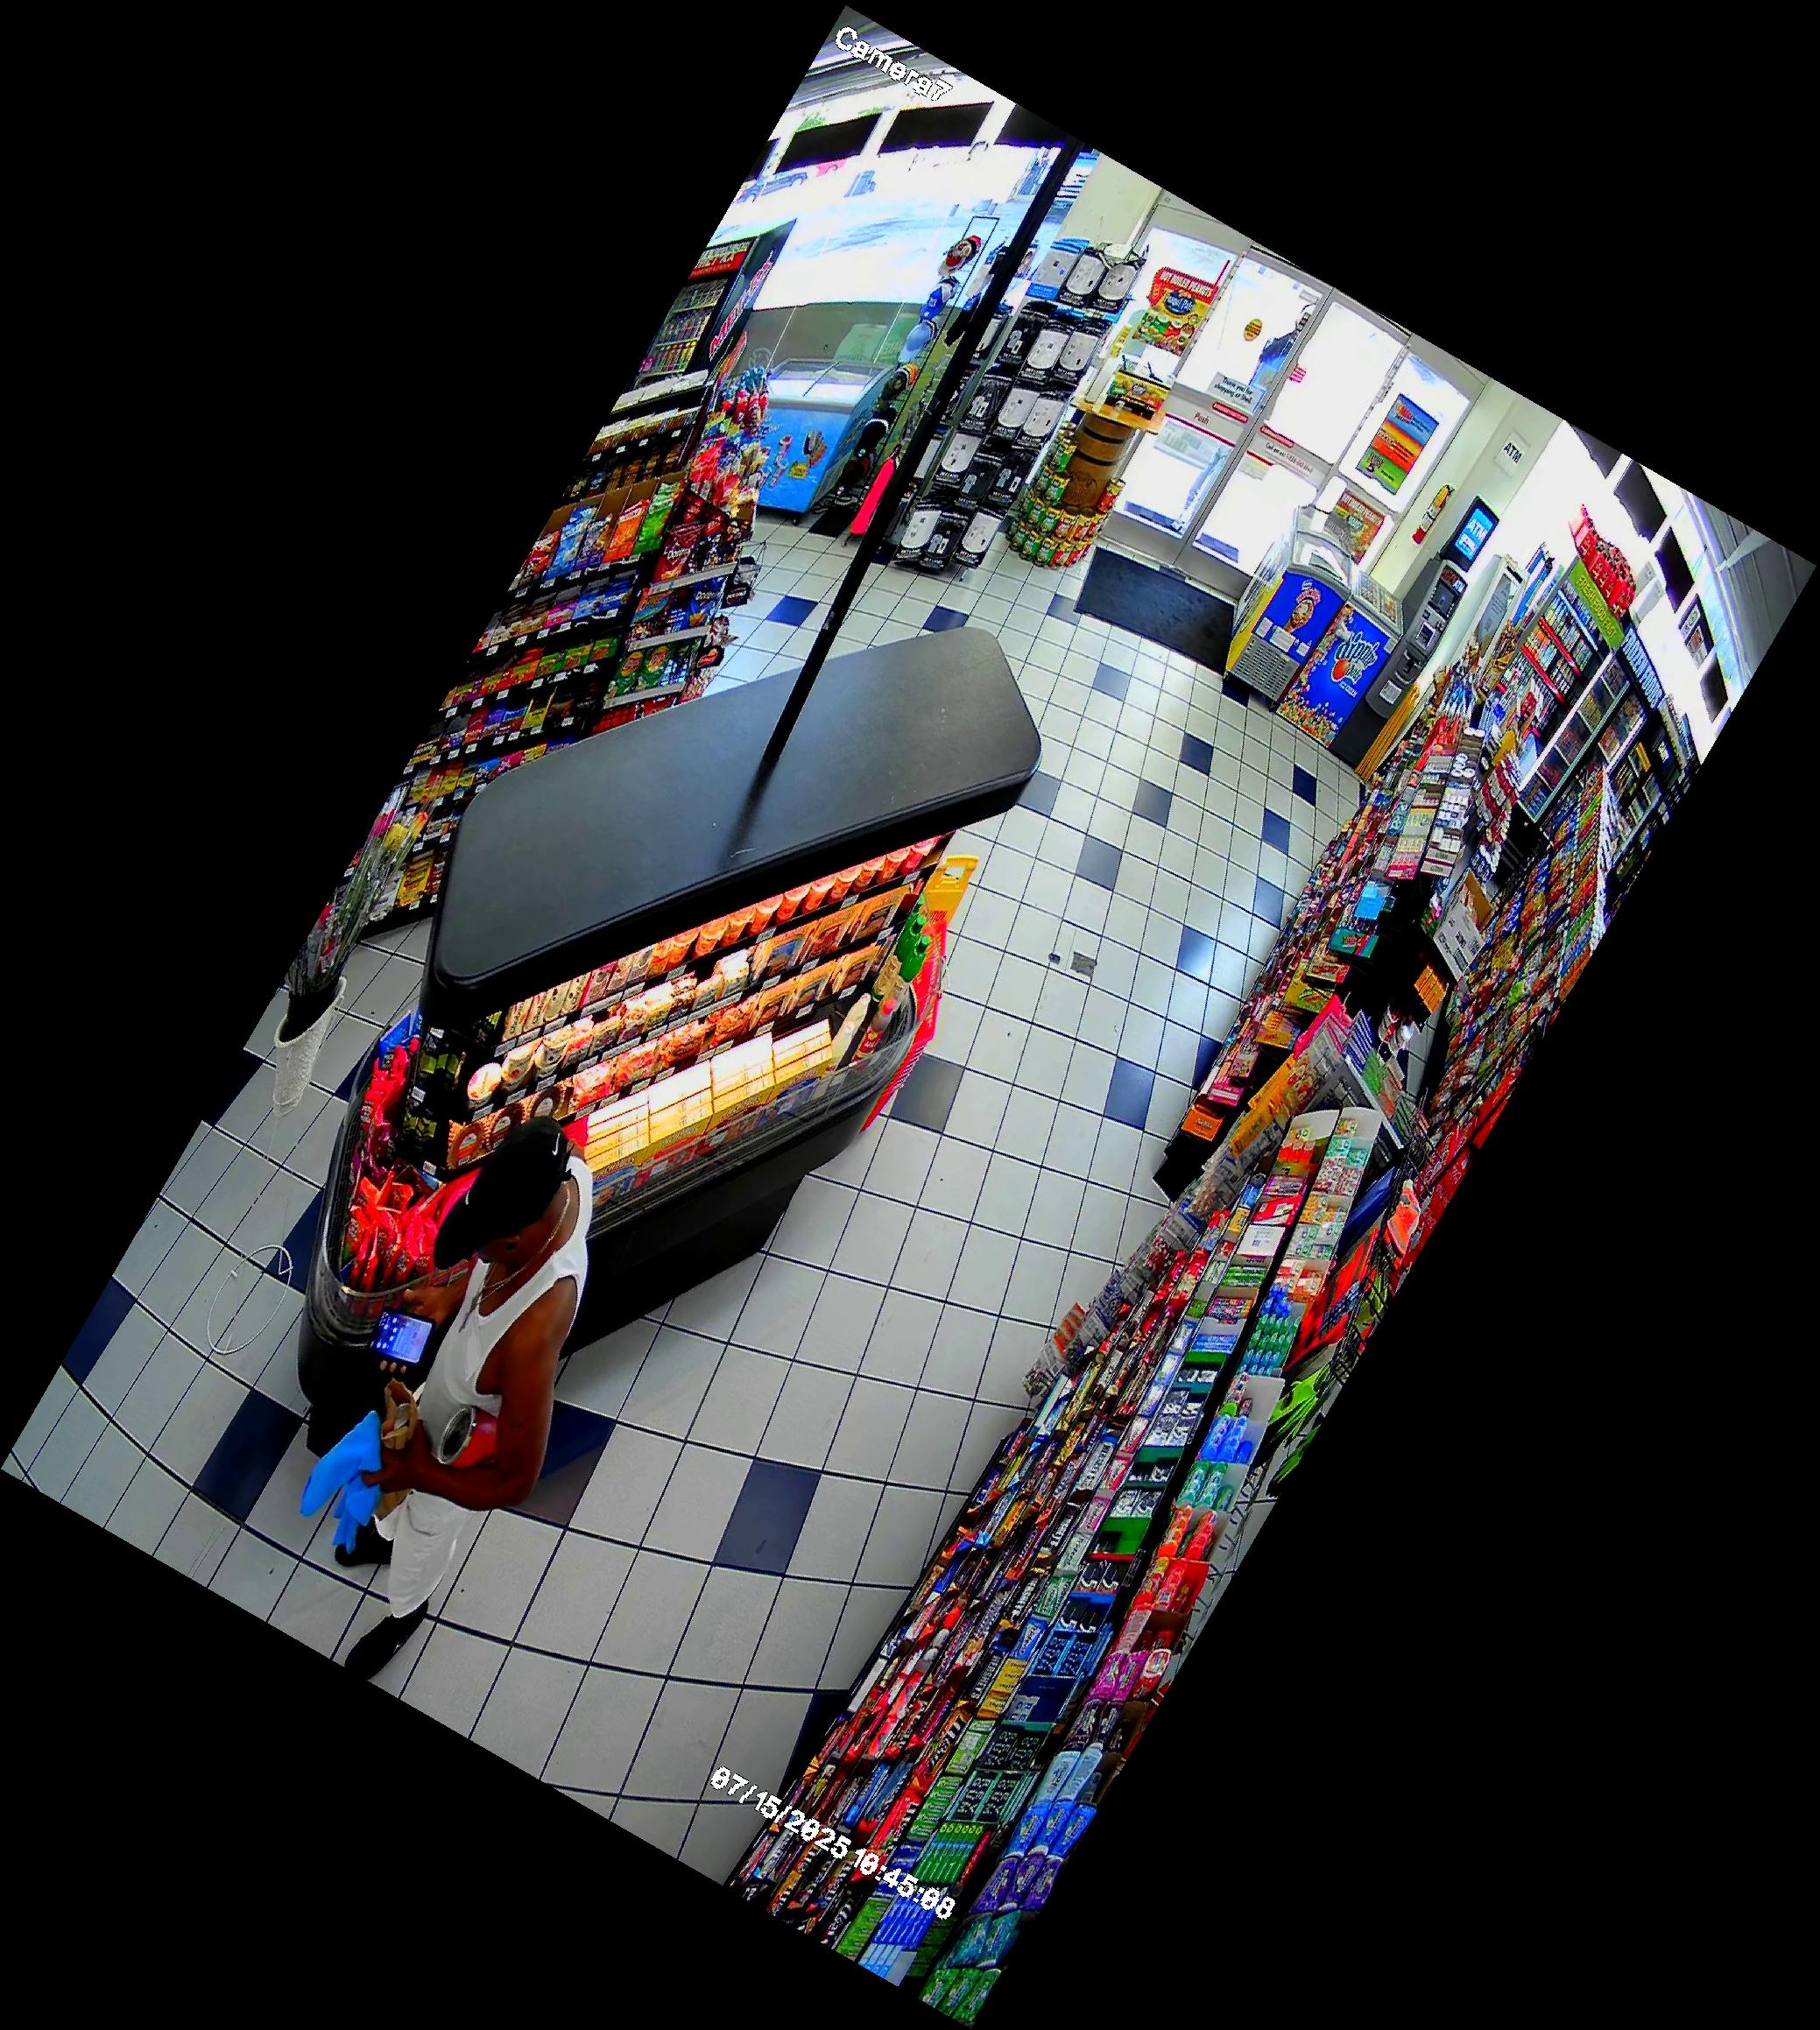phone: (358, 1298, 441, 1379)
